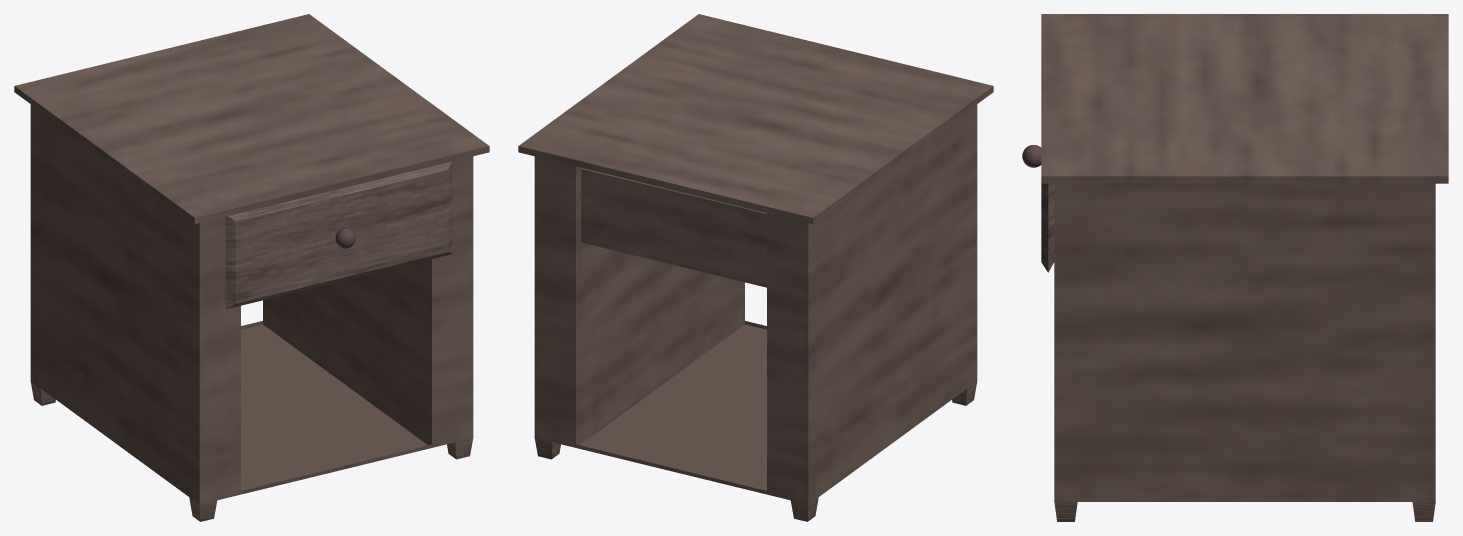
File: MesitaNoche.fbx
3 views of the same model, side by side, from view 1: azimuth 30°, elevation 25°; view 2: azimuth 150°, elevation 25°; view 3: azimuth 270°, elevation 25° (orthographic). The views are drawn at different scales.
Parts seen in each view (by area): view 1: MesitaNoche, MesitaNocheCajon; view 2: MesitaNoche, MesitaNocheCajon; view 3: MesitaNoche, MesitaNocheCajon.
Boxes of the visible parts, x1,y1,x2,y2 form: MesitaNoche: [14, 14, 489, 521]; MesitaNocheCajon: [225, 161, 452, 309]; MesitaNoche: [518, 14, 993, 521]; MesitaNocheCajon: [581, 168, 766, 287]; MesitaNoche: [1041, 14, 1448, 521]; MesitaNocheCajon: [1022, 144, 1054, 272].
Bounding box in the file's own units: 96.44 × 97.62 × 107.
